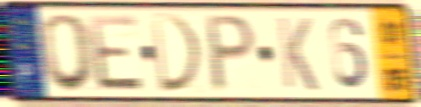6: (328, 16, 370, 93)
D: (149, 11, 206, 96)
E: (87, 12, 148, 94)
K: (274, 14, 320, 94)
O: (40, 11, 99, 94)
P: (204, 11, 258, 95)
